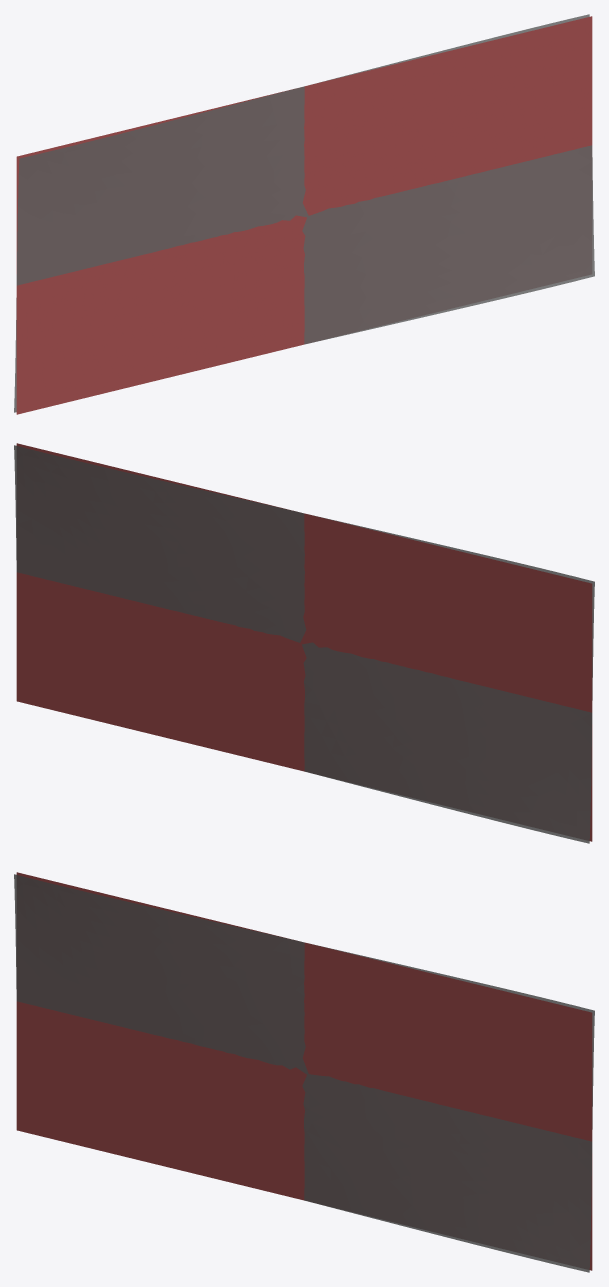
File: warping-rectangle-60-140-848.glb
3 renders of one model, top to bottom at view 1: azimuth 30°, elevation 25°; view 2: azimuth 150°, elevation 25°; view 3: azimuth 330°, elevation 25°, orthographic.
Visible parts, largest first — view 1: undeformed cross-section, cross-section with warping; view 2: undeformed cross-section, cross-section with warping; view 3: undeformed cross-section, cross-section with warping.
Boxes of the visible parts, x1,y1,x2,y2 form: undeformed cross-section: (16, 16, 592, 414); cross-section with warping: (14, 14, 594, 412); undeformed cross-section: (16, 443, 592, 841); cross-section with warping: (14, 445, 594, 843); undeformed cross-section: (16, 872, 592, 1270); cross-section with warping: (14, 874, 594, 1272).
Size of the model in its own units: 0.14 by 0.06 by 0.00248.
